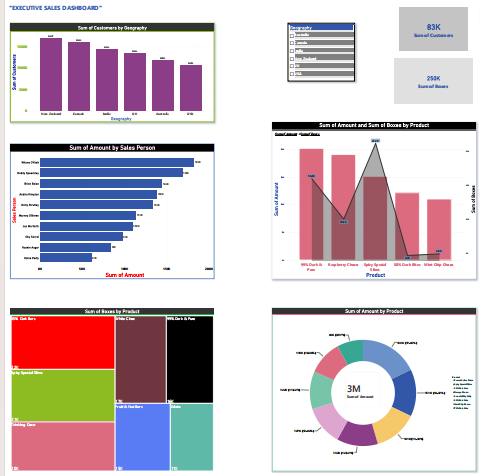

This screenshot's page, from the dashboard's own definition file:
{"tool":"powerbi","page":{"name":"\"Main Dashboard\"","canvas":[3000,3000],"ordinal":0},"visuals":[{"type":"textbox","box":[10,0,280,56],"z":0},{"type":"textbox","box":[0,0,706,88],"z":1000},{"type":"columnChart","fields":{"Category":["NEW DATA.Geography"],"Y":["Sum(NEW DATA.Customers)"]},"box":[10,130,1300,630],"z":2000},{"type":"lineClusteredColumnComboChart","fields":{"Category":["NEW DATA.Product"],"Y":["Sum(NEW DATA.Amount)"],"Y2":["Sum(NEW DATA.Boxes)"]},"box":[1680,760,1300,1000],"z":3000},{"type":"clusteredBarChart","fields":{"Category":["NEW DATA.Sales Person"],"Y":["Sum(NEW DATA.Amount)"]},"box":[10,900,1300,860],"z":4000},{"type":"card","fields":{"Values":["Sum(NEW DATA.Customers)"]},"box":[2493.3,30,433.3,276.7],"z":5000},{"type":"donutChart","fields":{"Category":["NEW DATA.Product"],"Y":["Sum(NEW DATA.Amount)"]},"box":[1680,1946.7,1300,1040],"z":6000},{"type":"card","fields":{"Values":["Sum(NEW DATA.Boxes)"]},"box":[2456.7,353.3,503.3,290],"z":7000},{"type":"treemap","fields":{"Group":["NEW DATA.Product"],"Values":["Sum(NEW DATA.Boxes)"]},"box":[10,1950,1300,1040],"z":8000},{"type":"cardVisual","fields":{"Data":["Sum(NEW DATA.Amount)"]},"box":[2130,2340,250,260],"z":9000},{"type":"slicer","fields":{"Values":["NEW DATA.Geography"]},"box":[1780,130,425,370],"z":10000}]}

Visuals, with their boxes in screenshot pixels (x1, y1, x2, y2), scaled from the page's 3000x3000 canvas onto the 483x476 screenshot:
textbox: {"left": 2, "top": 0, "right": 47, "bottom": 9}
textbox: {"left": 0, "top": 0, "right": 114, "bottom": 14}
columnChart - NEW DATA.Geography x Sum(NEW DATA.Customers): {"left": 2, "top": 21, "right": 211, "bottom": 121}
lineClusteredColumnComboChart - NEW DATA.Product x Sum(NEW DATA.Amount): {"left": 270, "top": 121, "right": 480, "bottom": 279}
clusteredBarChart - NEW DATA.Sales Person x Sum(NEW DATA.Amount): {"left": 2, "top": 143, "right": 211, "bottom": 279}
card - Sum(NEW DATA.Customers): {"left": 401, "top": 5, "right": 471, "bottom": 49}
donutChart - NEW DATA.Product x Sum(NEW DATA.Amount): {"left": 270, "top": 309, "right": 480, "bottom": 474}
card - Sum(NEW DATA.Boxes): {"left": 396, "top": 56, "right": 477, "bottom": 102}
treemap - NEW DATA.Product x Sum(NEW DATA.Boxes): {"left": 2, "top": 309, "right": 211, "bottom": 474}
cardVisual - Sum(NEW DATA.Amount): {"left": 343, "top": 371, "right": 383, "bottom": 413}
slicer - NEW DATA.Geography: {"left": 287, "top": 21, "right": 355, "bottom": 79}
